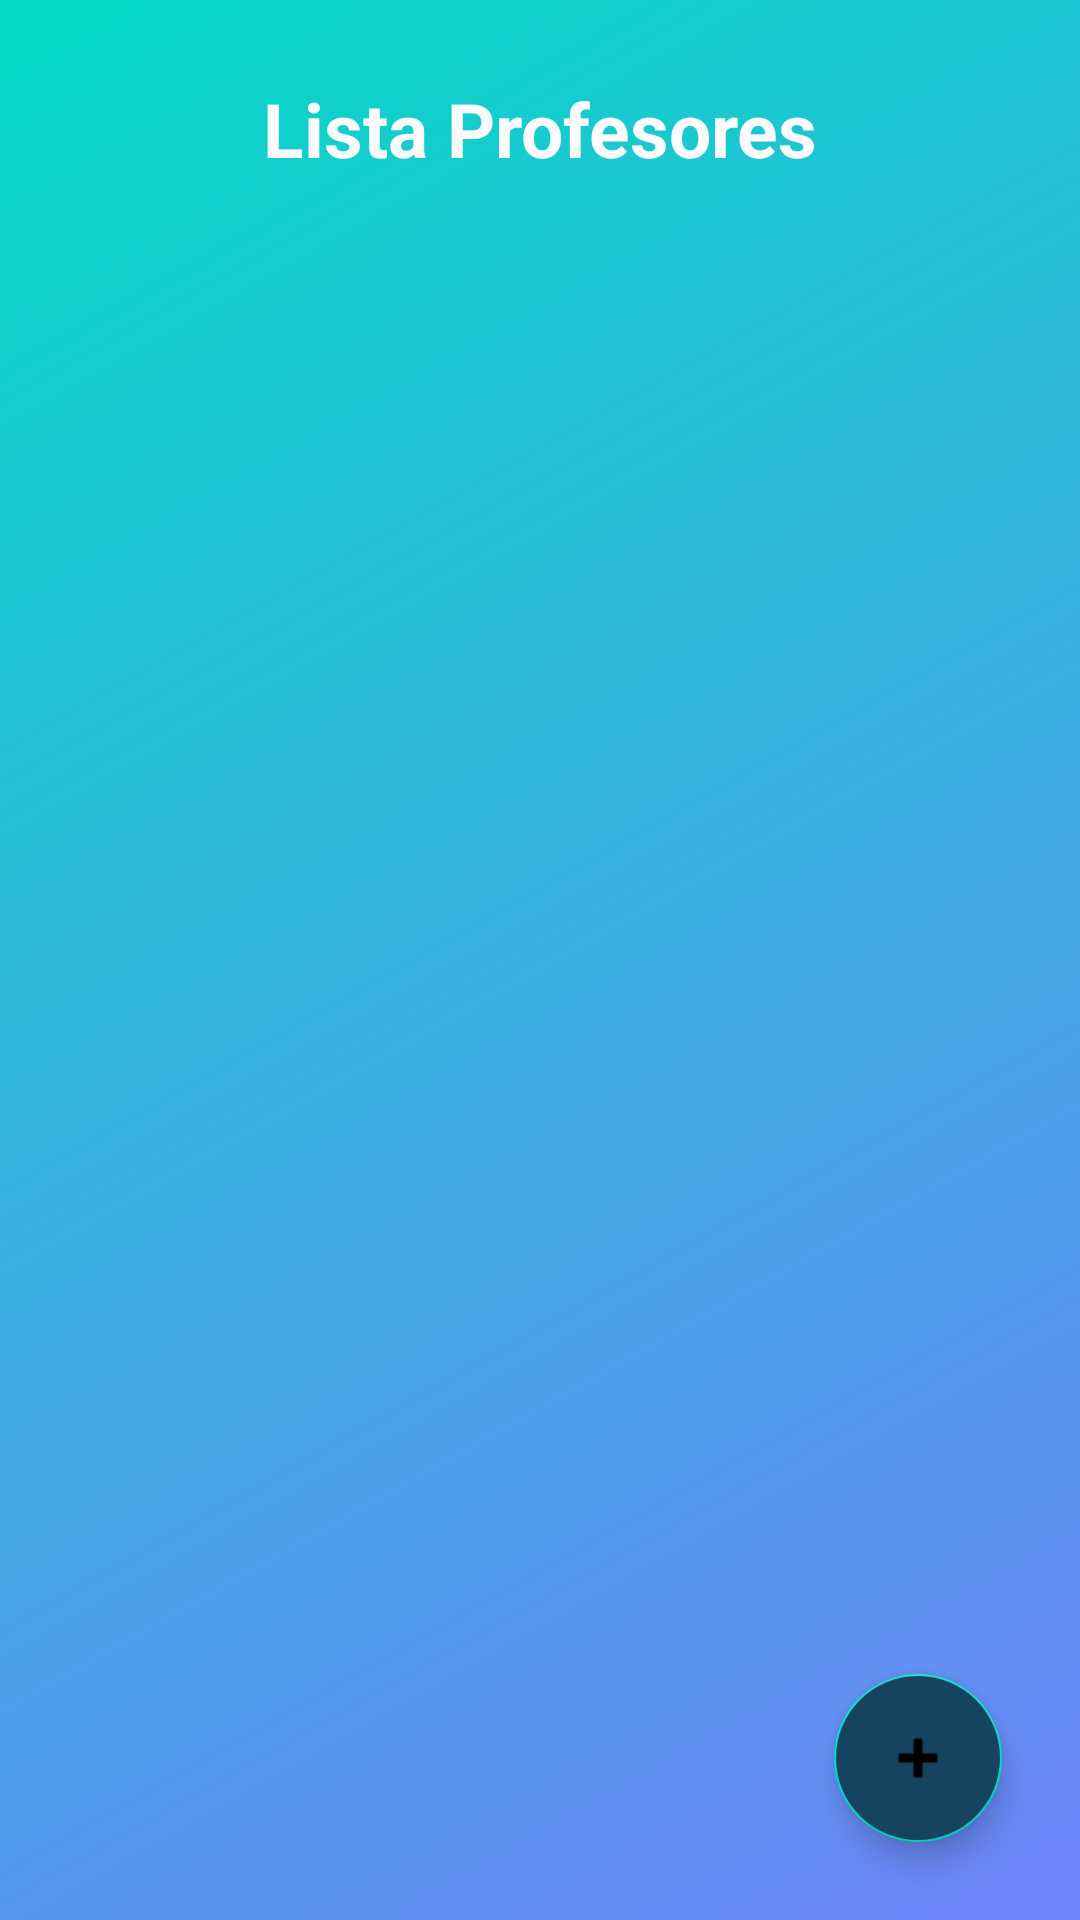

Locate icon controls on the screen. Image size 1080px×1920px, boxes as (x1, y1, x2, y2).
add: (834, 1674, 1002, 1842)
